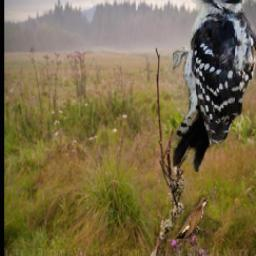Cuckoo: (175, 195, 209, 239)
Woodpecker: (174, 0, 256, 172)
